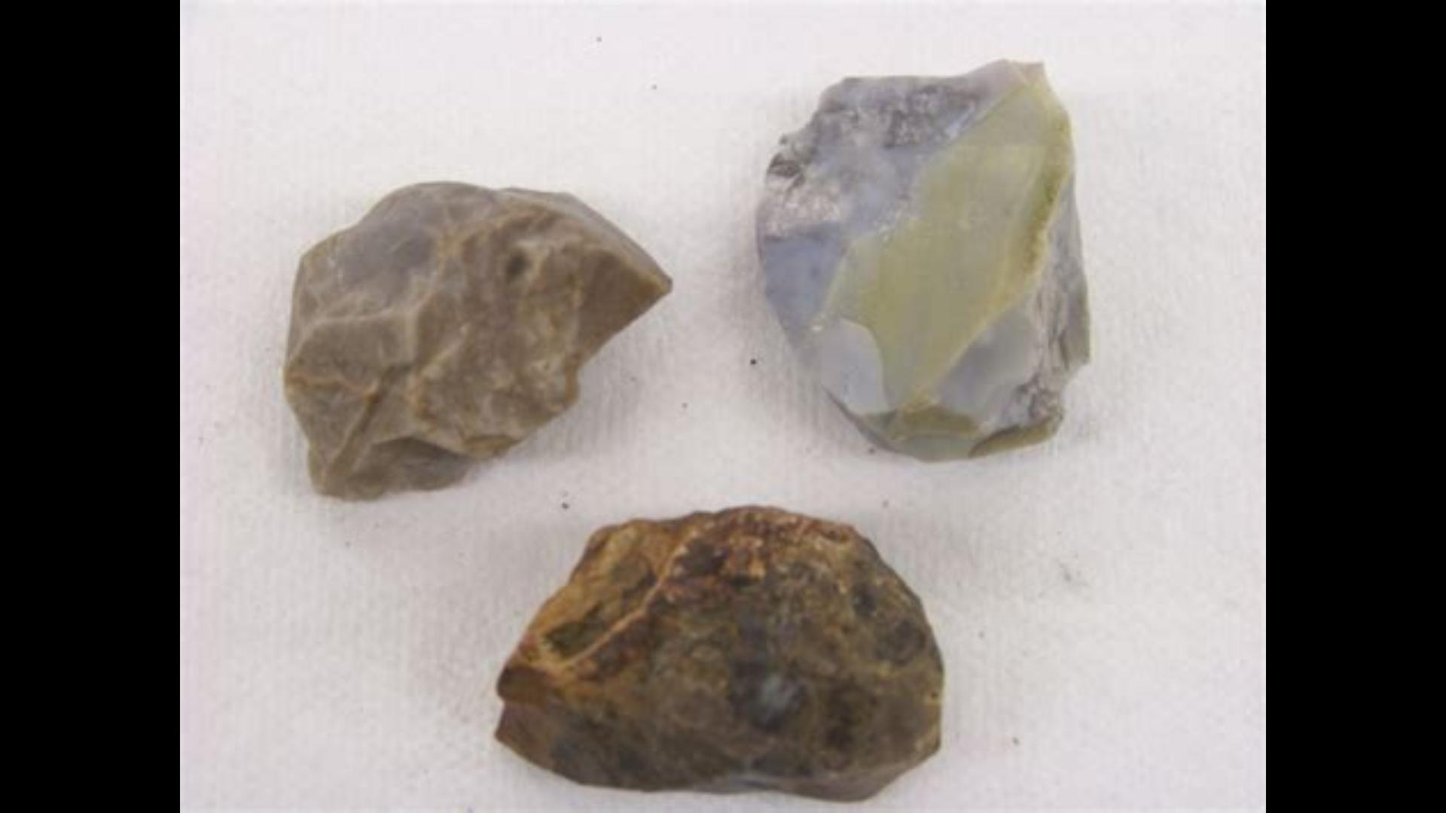rock: (180, 2, 1264, 806), (760, 62, 1087, 458), (285, 183, 668, 497)
